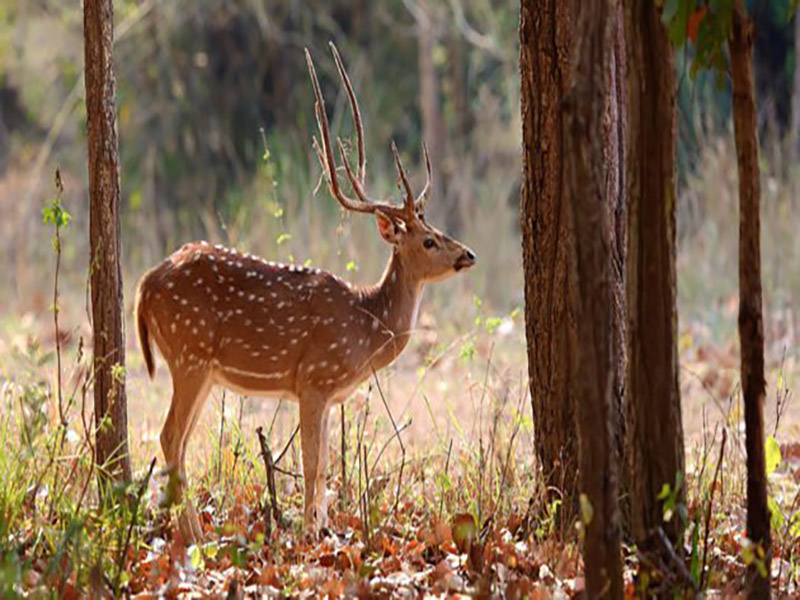cervo: (122, 57, 476, 547)
